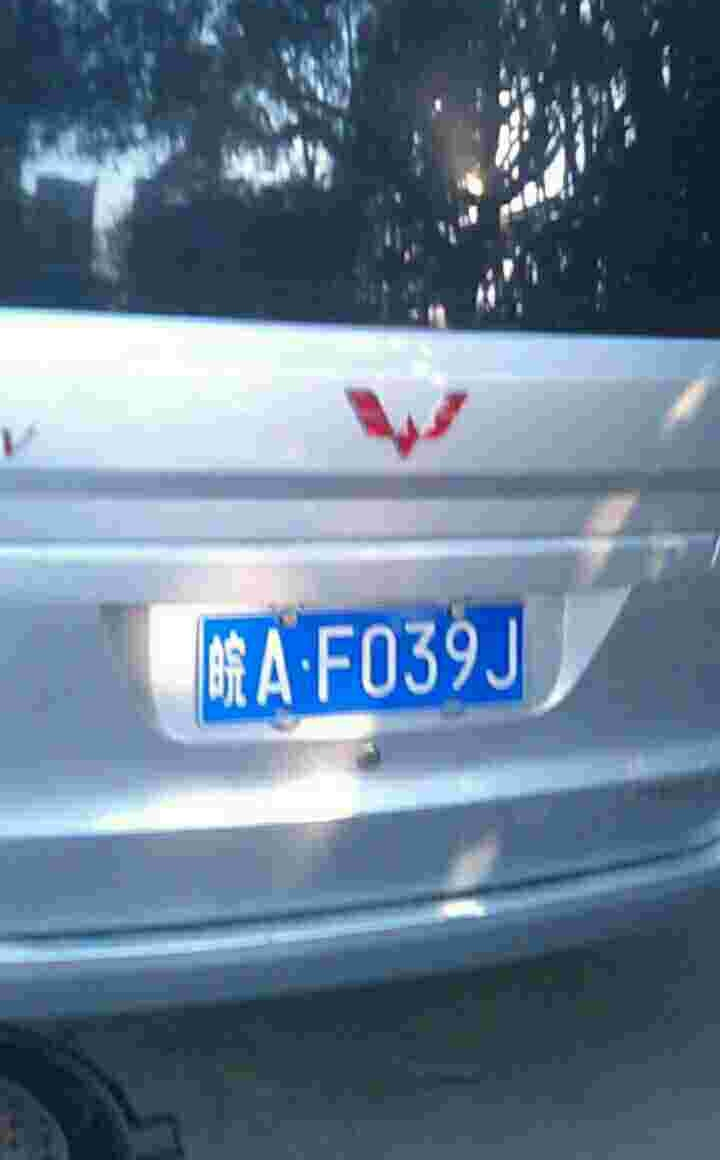license_plate: (209, 598, 533, 730)
